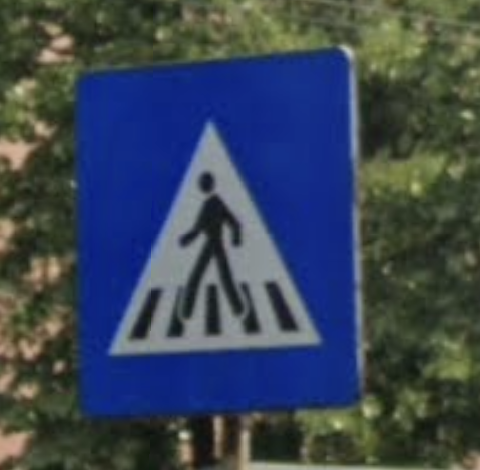trecere_pietoni: (56, 43, 370, 415)
